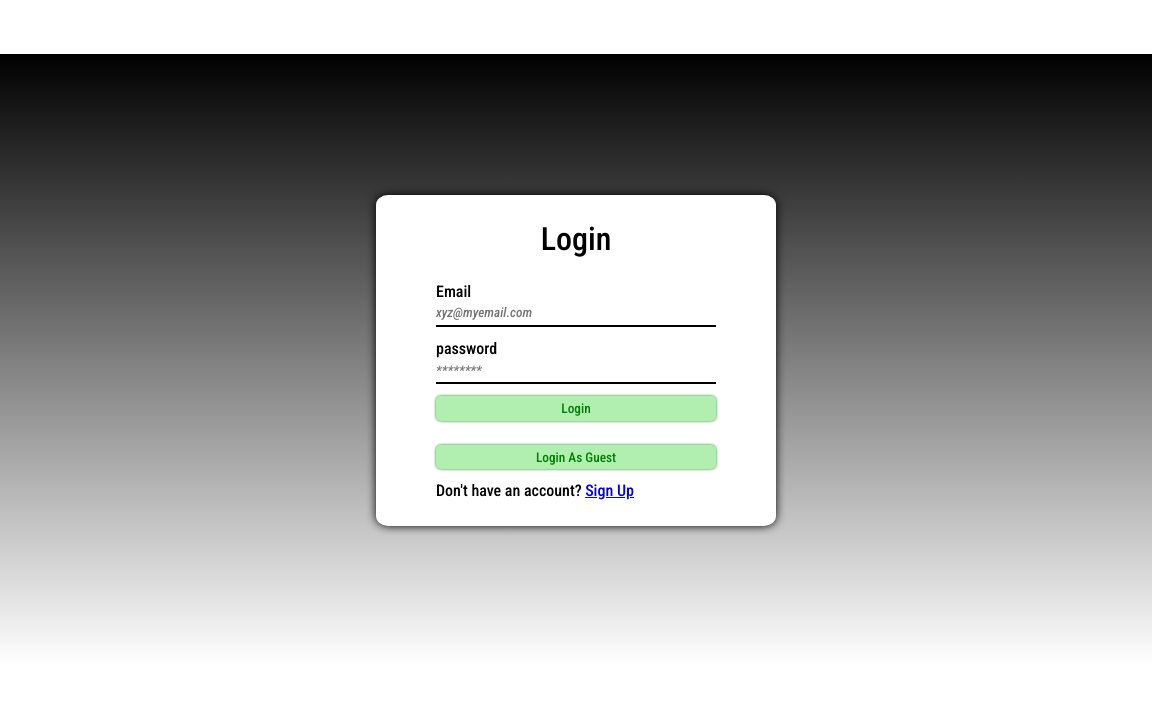
Scenario: Sign up form › Failed Login
This screenshot has width=1152, height=720.
Type "testUser@email.com" into the field with placeholder "xyz@myemail.com" at (576, 314), box [436, 300, 716, 327]
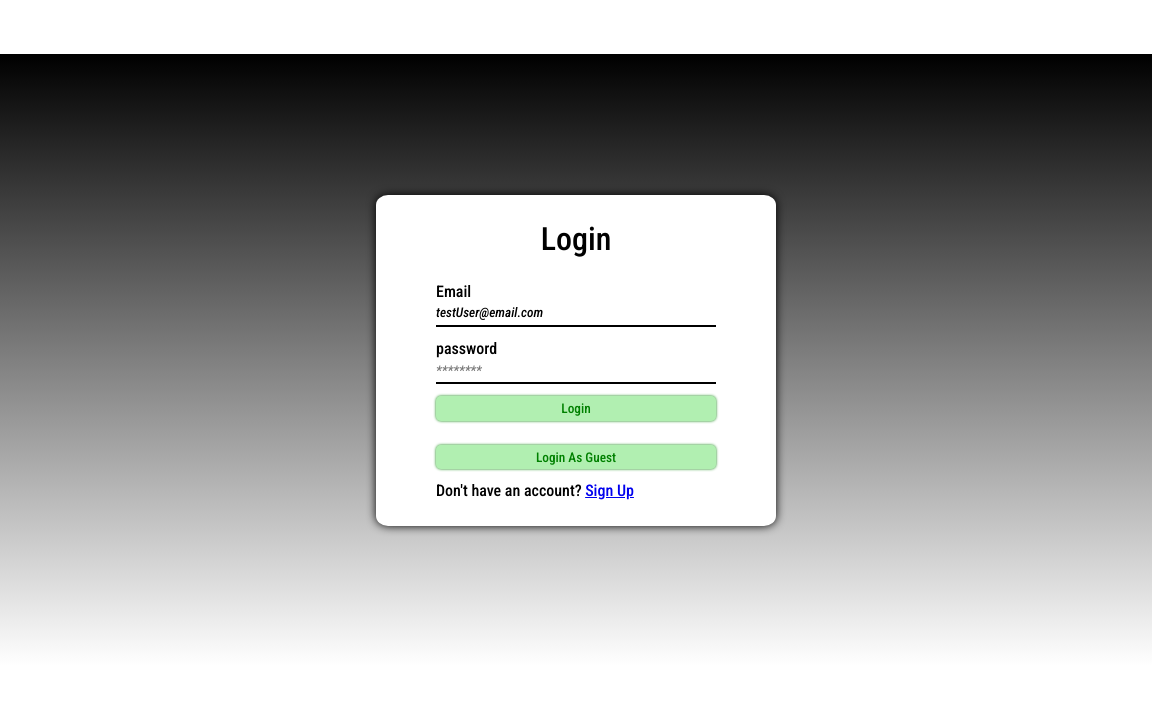
Type "testUserPassword" into the password field with placeholder "********" at (576, 371), box [436, 358, 716, 384]
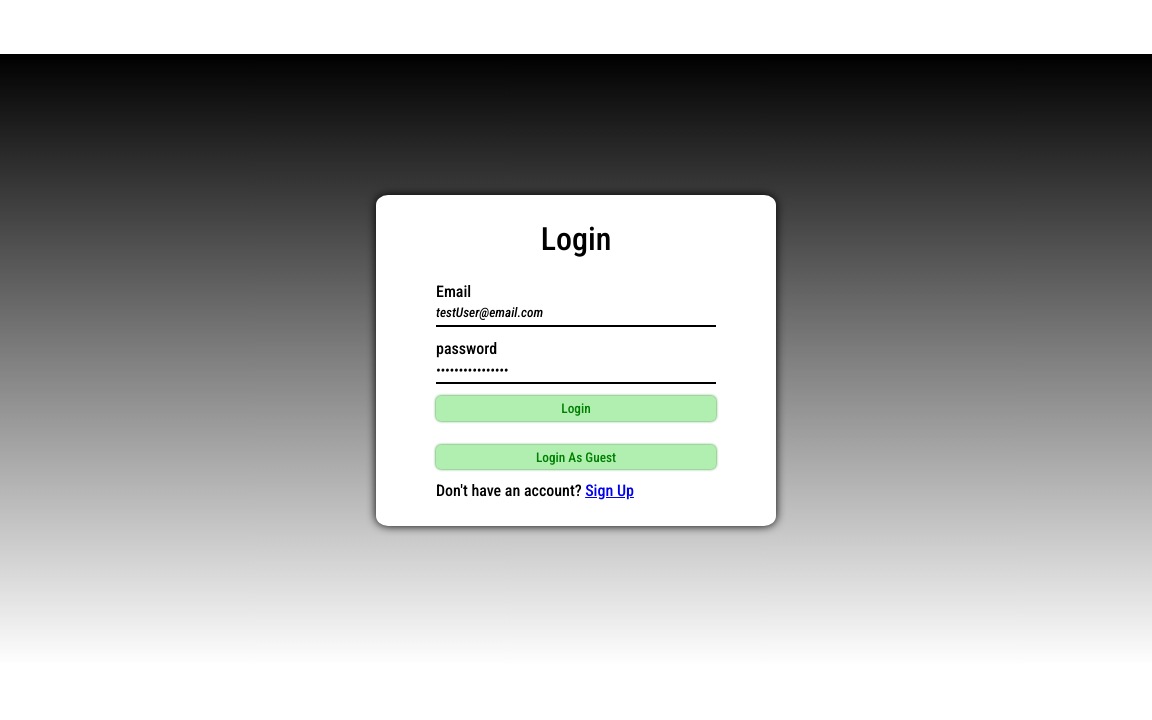
Click the button with aria-label "loginFormSubmit" at (576, 409), box [436, 396, 716, 421]
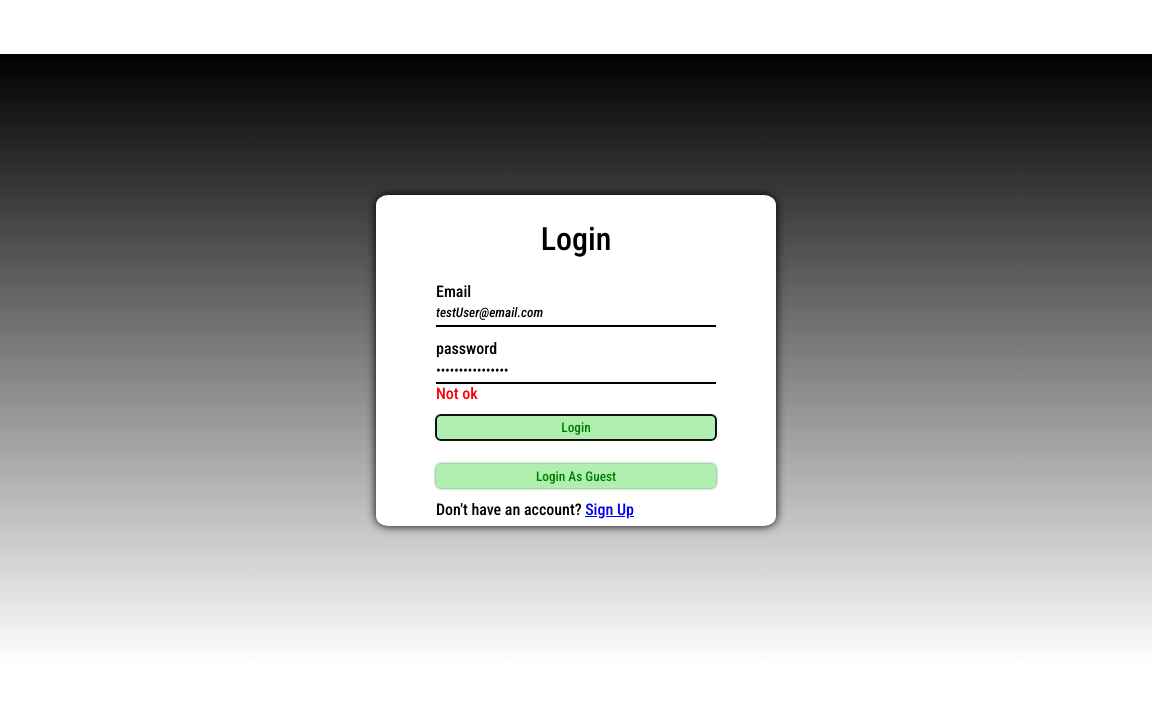
expect the text "Not ok" is shown: met, box [436, 384, 478, 403]
